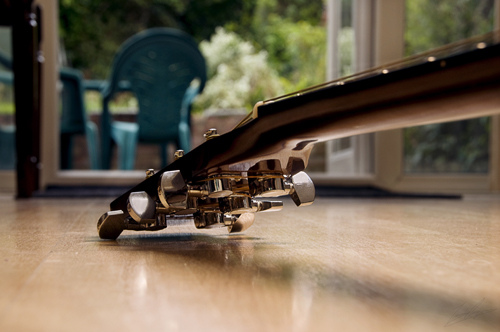guitar: (101, 33, 500, 244)
